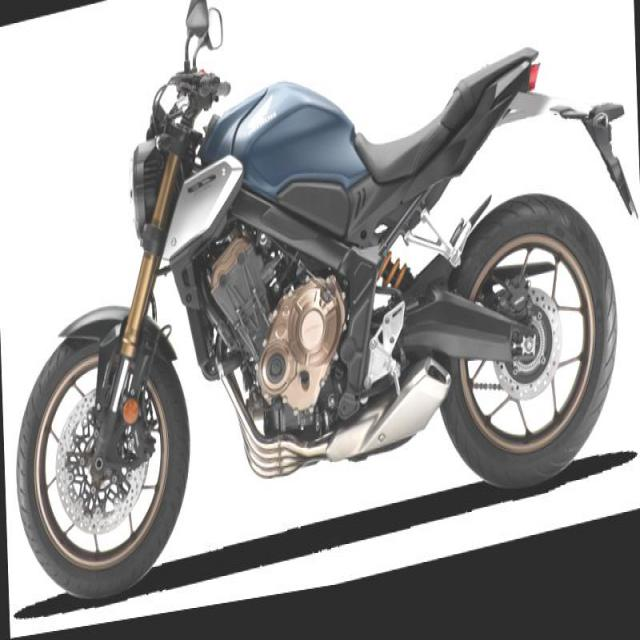CB650R: (1, 0, 625, 629)
